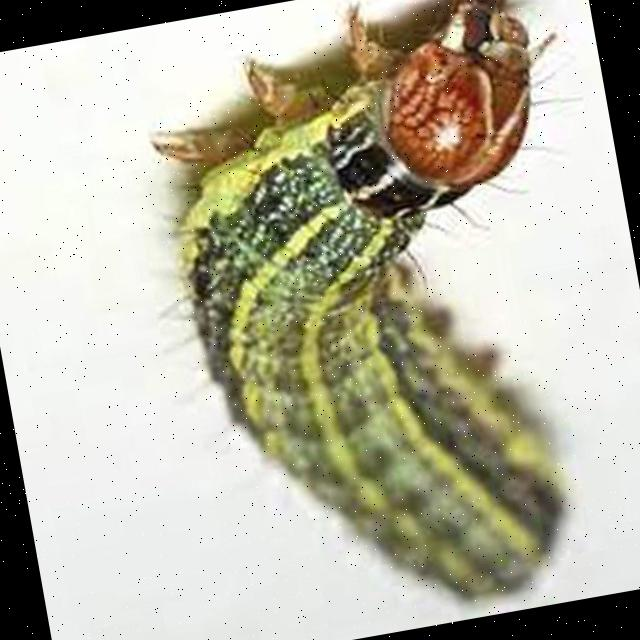worm: (120, 1, 640, 640)
